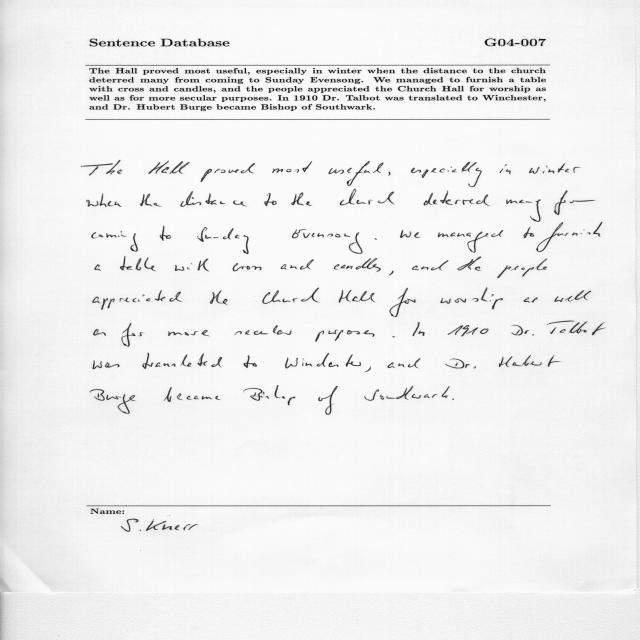word: (537, 222, 603, 252), (93, 290, 183, 310), (411, 162, 482, 187), (292, 229, 362, 254), (438, 230, 503, 253), (197, 227, 249, 254), (329, 161, 384, 186), (441, 288, 503, 309), (364, 386, 450, 401), (142, 353, 222, 369), (90, 389, 136, 414), (285, 353, 361, 368), (181, 191, 247, 207), (244, 386, 296, 406), (201, 163, 255, 182), (555, 190, 596, 215), (424, 191, 490, 206), (92, 231, 138, 252), (497, 259, 547, 278), (262, 288, 319, 304), (340, 189, 394, 205), (164, 387, 220, 402), (547, 321, 606, 335), (506, 199, 541, 222), (390, 288, 416, 317), (499, 355, 560, 367), (315, 330, 375, 342), (334, 258, 381, 272), (82, 161, 123, 176), (318, 386, 338, 415), (235, 325, 292, 335), (529, 163, 580, 174), (148, 161, 190, 174), (120, 256, 156, 271), (122, 323, 144, 347), (272, 161, 312, 173), (87, 193, 121, 207), (339, 290, 375, 303), (174, 259, 209, 272), (448, 325, 489, 336), (555, 290, 592, 302), (281, 259, 314, 270), (412, 261, 448, 271), (458, 256, 482, 271), (388, 358, 421, 368), (445, 359, 476, 369), (291, 192, 312, 206), (140, 194, 162, 207), (210, 291, 228, 305), (168, 330, 209, 336), (512, 325, 534, 336), (93, 361, 119, 370), (233, 263, 262, 271), (264, 193, 277, 206), (244, 355, 257, 368), (413, 322, 425, 336), (160, 226, 171, 241), (400, 230, 420, 238), (500, 165, 511, 175), (524, 227, 534, 238), (524, 297, 538, 303), (94, 329, 106, 336), (95, 264, 101, 271), (365, 367, 371, 373), (389, 271, 394, 276), (388, 172, 391, 176), (393, 336, 396, 338), (375, 238, 377, 240), (452, 398, 454, 400)
